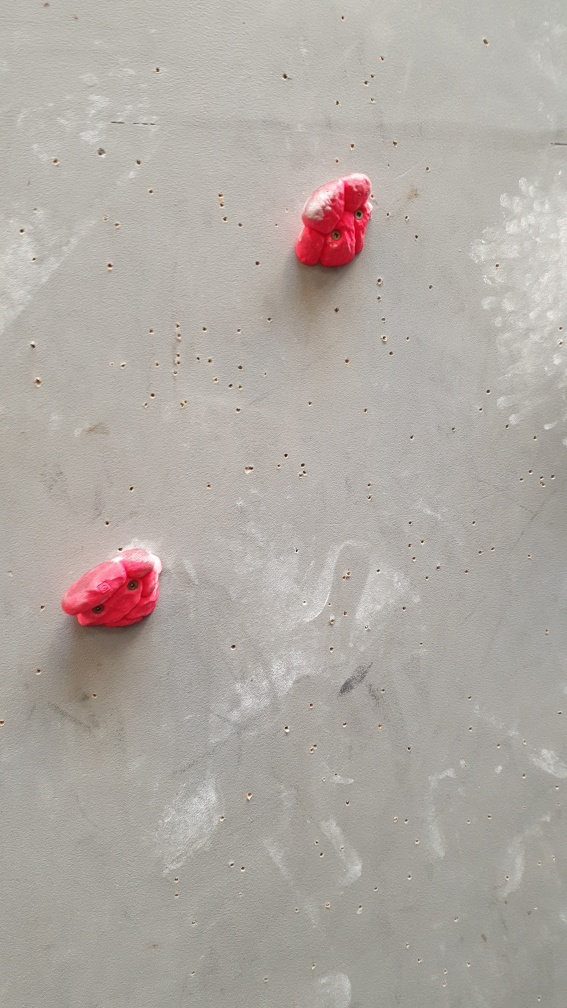Jug: (57, 544, 166, 631), (294, 171, 378, 271)
